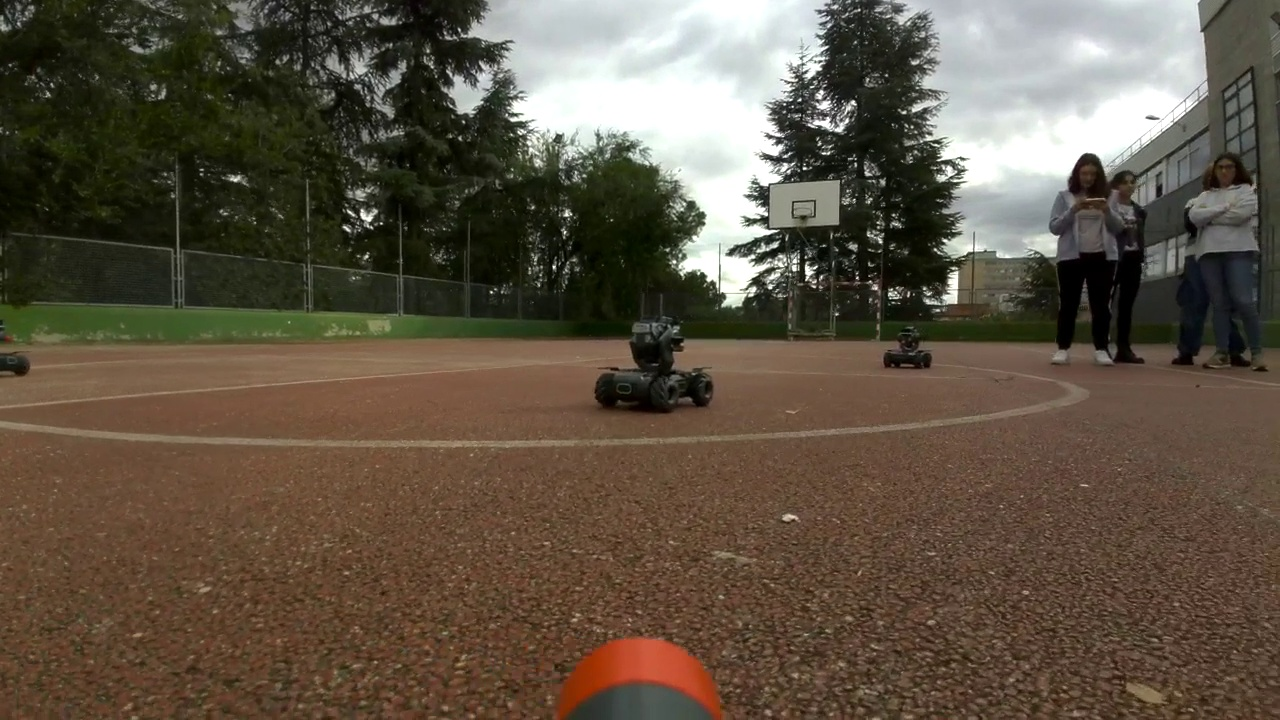robot: (595, 315, 715, 416), (885, 327, 931, 370)
